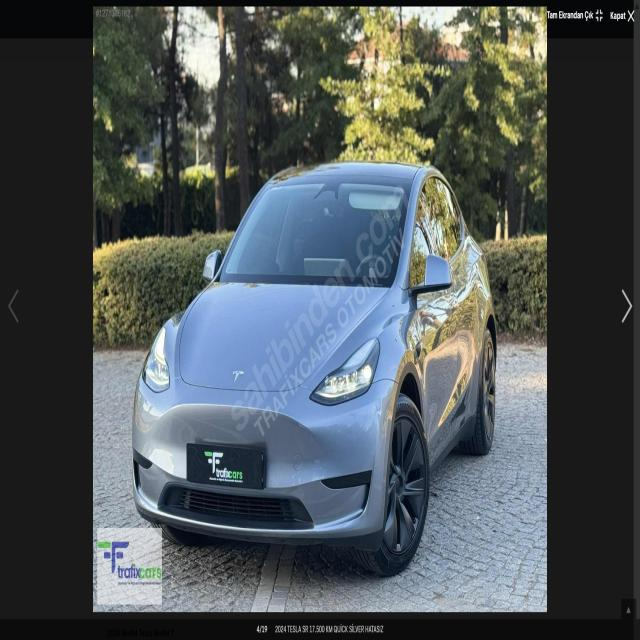tesla: (227, 354, 248, 401)
